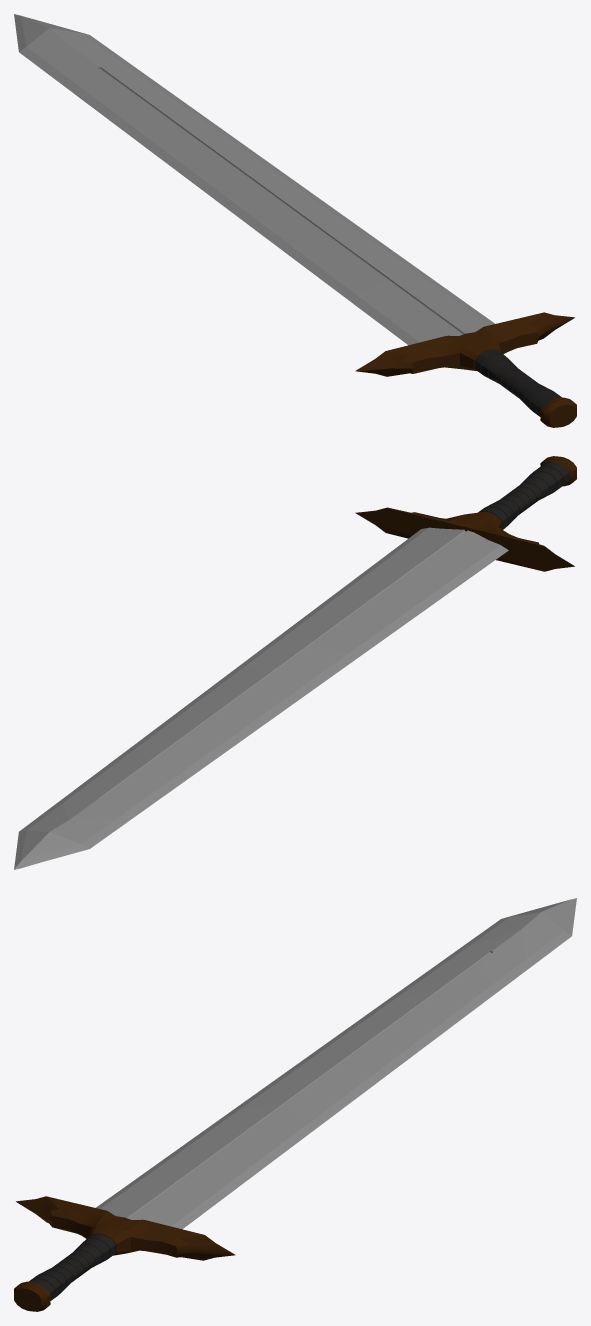
The model's file is blade.fbx.
3 renders of one model, top to bottom at view 1: azimuth 30°, elevation 25°; view 2: azimuth 150°, elevation 25°; view 3: azimuth 330°, elevation 25°, orthographic.
Visible parts, largest first — view 1: Sword; view 2: Sword; view 3: Sword.
Boxes of the visible parts, x1=… form: Sword: x1=14, y1=14, x2=576, y2=427; Sword: x1=14, y1=456, x2=576, y2=869; Sword: x1=14, y1=898, x2=576, y2=1311.
Size of the model in its own units: 34.22 by 4.01 by 148.
